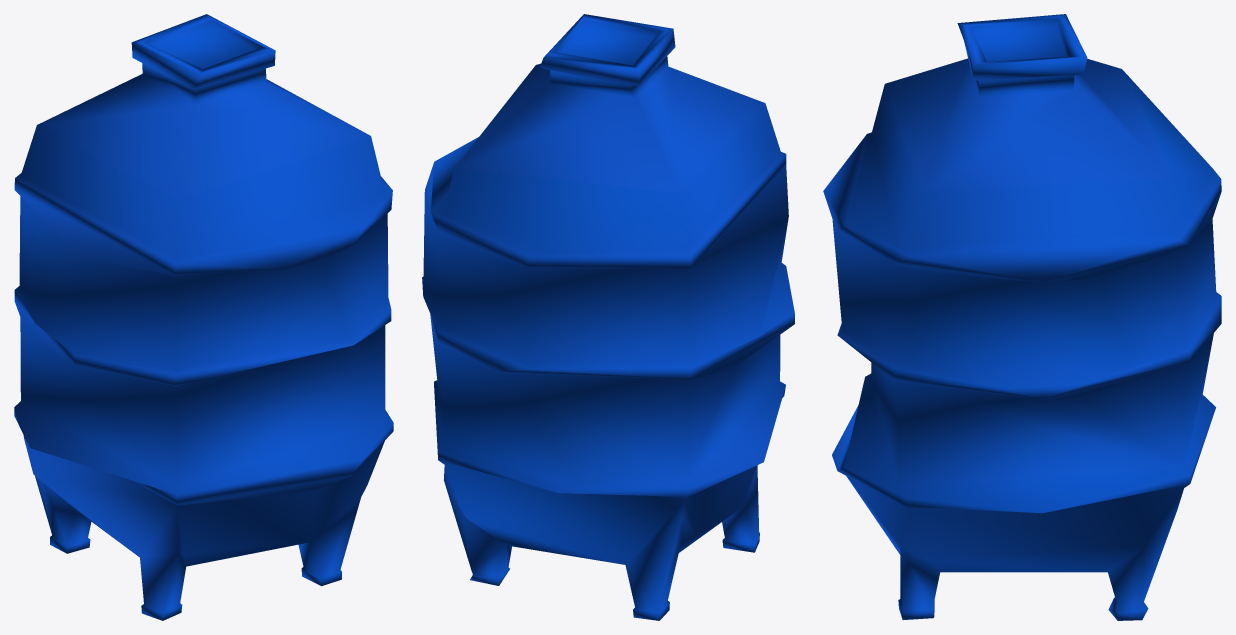
File: model.progressive.glb
3 views of the same model, side by side, from view 1: azimuth 30°, elevation 25°; view 2: azimuth 150°, elevation 25°; view 3: azimuth 270°, elevation 25° (orthographic). The views are drawn at different scales.
Parts seen in each view (by area): view 1: material; view 2: material; view 3: material.
Part boxes in pixels (box(x1,y1,x2,y2)): material: box(14, 14, 393, 620); material: box(422, 14, 794, 620); material: box(823, 14, 1221, 620).
Size of the model in its own units: 1.26 by 1.88 by 1.26.
Materials: 1 (1 with a texture image).
